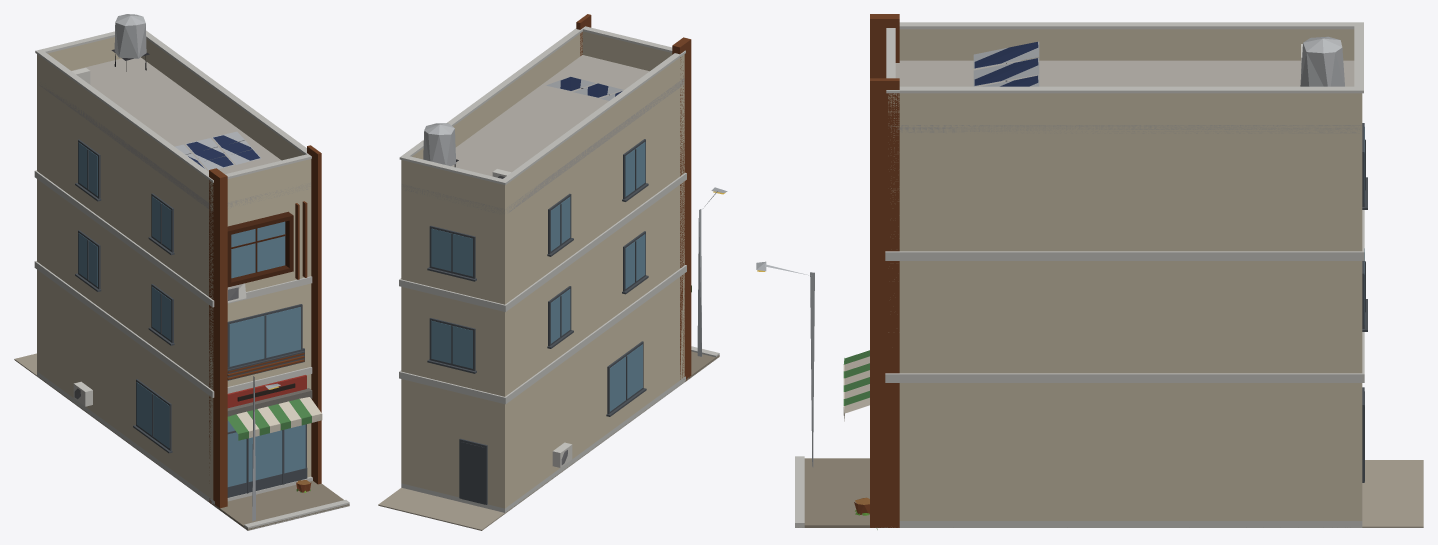
Rendered from bay1_left.glb.
3 views of the same model, side by side, from view 1: azimuth 30°, elevation 25°; view 2: azimuth 150°, elevation 25°; view 3: azimuth 270°, elevation 25° (orthographic). The views are drawn at different scales.
Parts seen in each view (by area): view 1: body; view 2: body; view 3: body.
Part boxes in pixels (box(x1,y1,x2,y2)): body: box(14, 14, 349, 530); body: box(378, 14, 727, 530); body: box(756, 14, 1423, 529).
Size of the model in its own units: 4.42 by 13.6 by 16.88.
